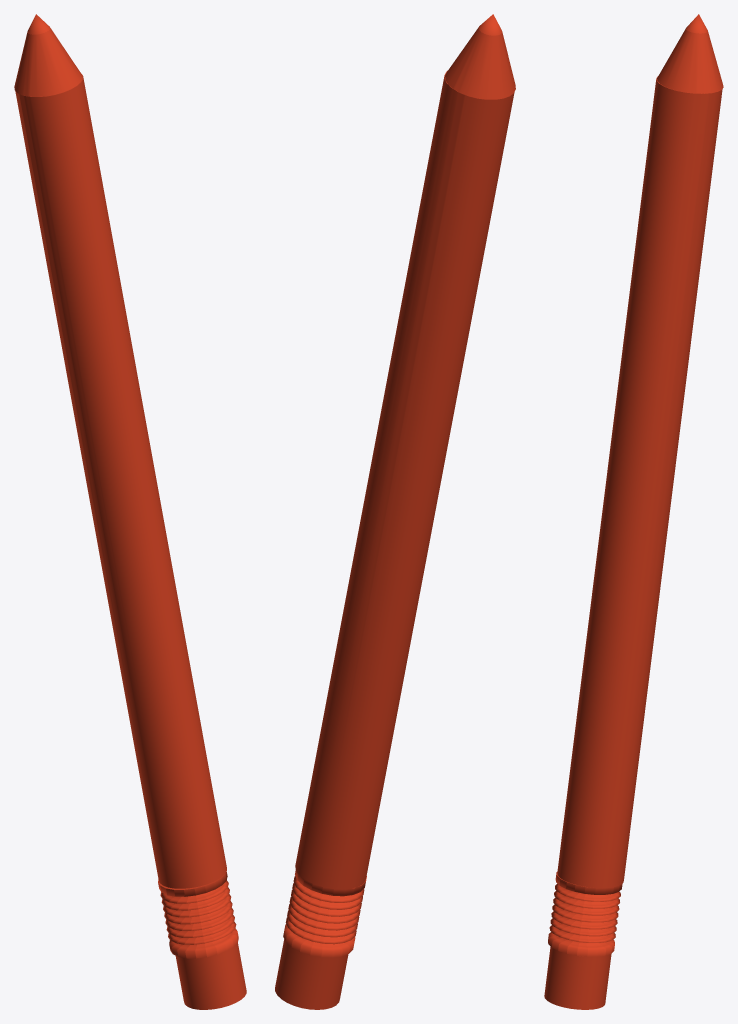
File: pencil1.fbx
The picture shows the model from 3 angles, left to right: view 1: azimuth 30°, elevation 25°; view 2: azimuth 210°, elevation 25°; view 3: azimuth 270°, elevation 25°; orthographic projection. The views are drawn at different scales.
Visible parts, largest first — view 1: pencil1; view 2: pencil1; view 3: pencil1.
Part boxes in pixels (x1,y1,x2,y2): pencil1: (14,14,246,1009); pencil1: (275,14,515,1009); pencil1: (544,14,723,1009).
Size of the model in its own units: 16.61 by 93.67 by 16.25.
